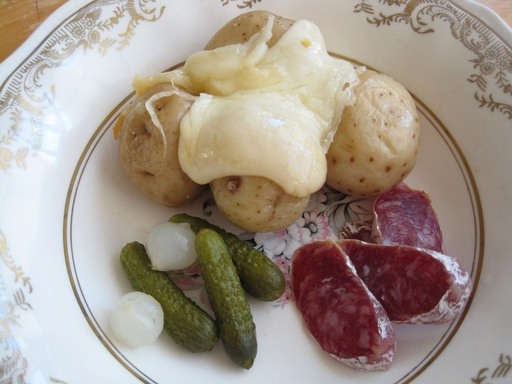background: (94, 6, 380, 223), (89, 95, 230, 222)
